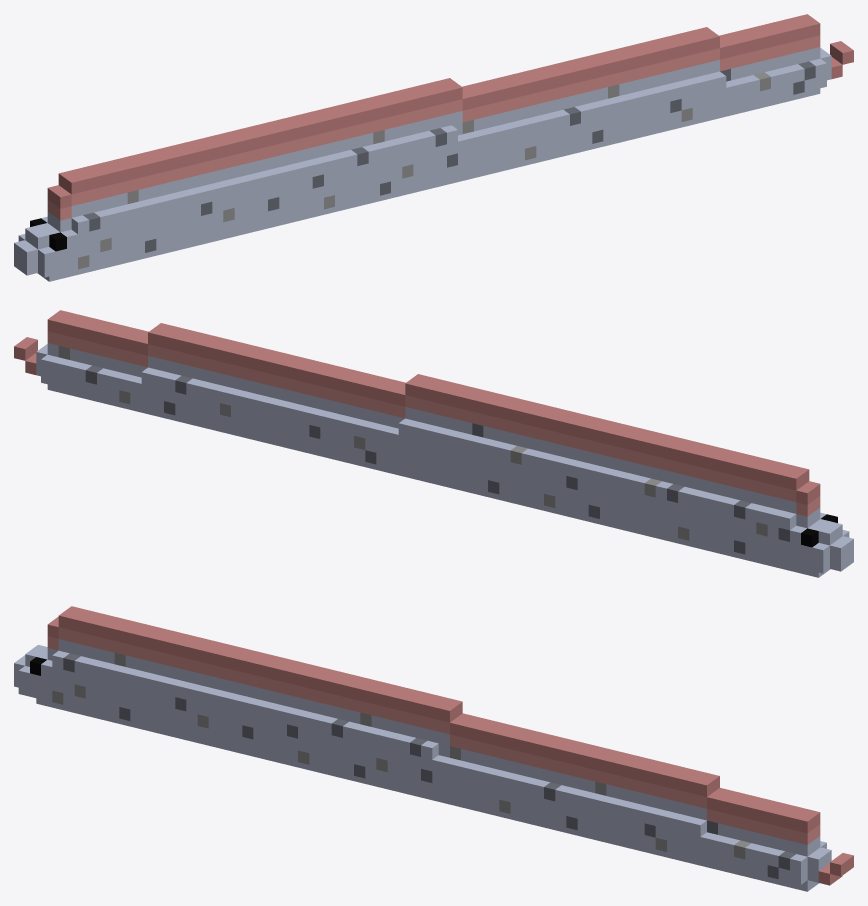
File: PezRemo.fbx
3 views of the same model, one above another, from view 1: azimuth 30°, elevation 25°; view 2: azimuth 150°, elevation 25°; view 3: azimuth 330°, elevation 25° (orthographic).
Visible parts, largest first — view 1: pezremo_74x8x4; view 2: pezremo_74x8x4; view 3: pezremo_74x8x4.
Boxes of the visible parts, x1,y1,x2,y2 form: pezremo_74x8x4: (14, 14, 853, 281); pezremo_74x8x4: (14, 310, 853, 577); pezremo_74x8x4: (14, 606, 853, 891).
Size of the model in its own units: 1014 by 110 by 54.8.
